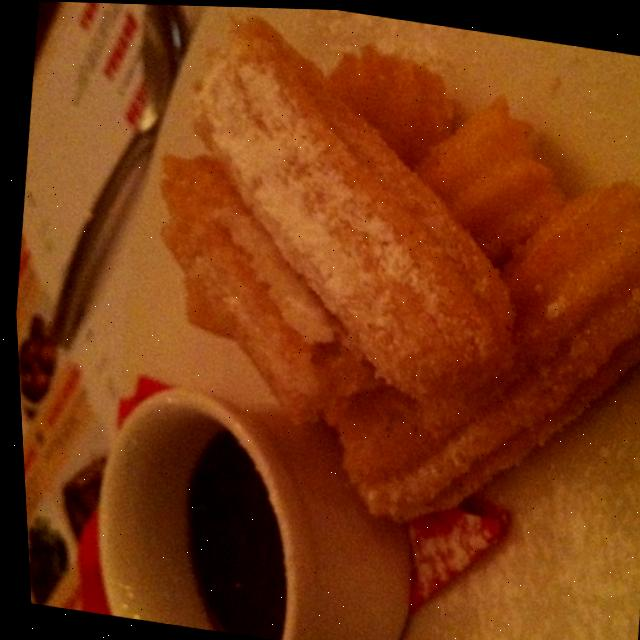炸货点心: (34, 5, 640, 640)
